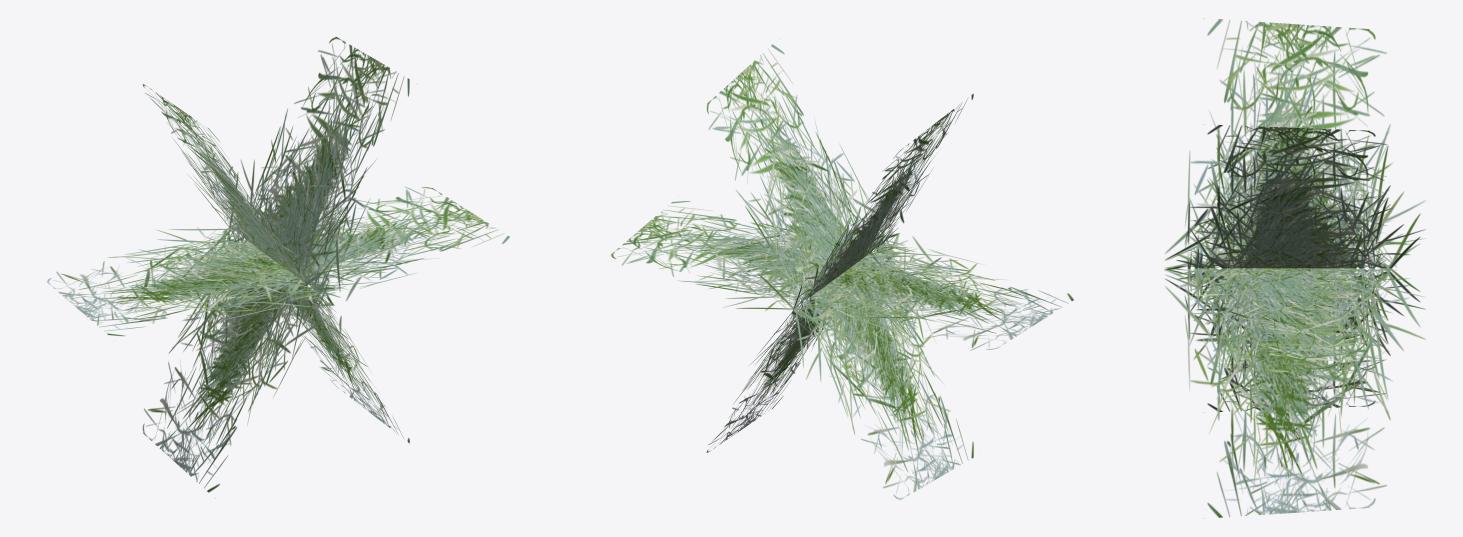
The model's file is GrassCard_Clump_C.glb.
3 views of the same model, side by side, from view 1: azimuth 30°, elevation 25°; view 2: azimuth 150°, elevation 25°; view 3: azimuth 270°, elevation 25° (orthographic). The views are drawn at different scales.
Visible parts, largest first — view 1: GrassCard_Clump_C; view 2: GrassCard_Clump_C; view 3: GrassCard_Clump_C.
Part boxes in pixels (left/top/right/bottom): GrassCard_Clump_C: left=47, top=37, right=509, bottom=498; GrassCard_Clump_C: left=611, top=38, right=1073, bottom=499; GrassCard_Clump_C: left=1164, top=18, right=1425, bottom=518.
Size of the model in its own units: 0.3 by 0.2598 by 0.18.
Materials: 1 (1 with a texture image).
